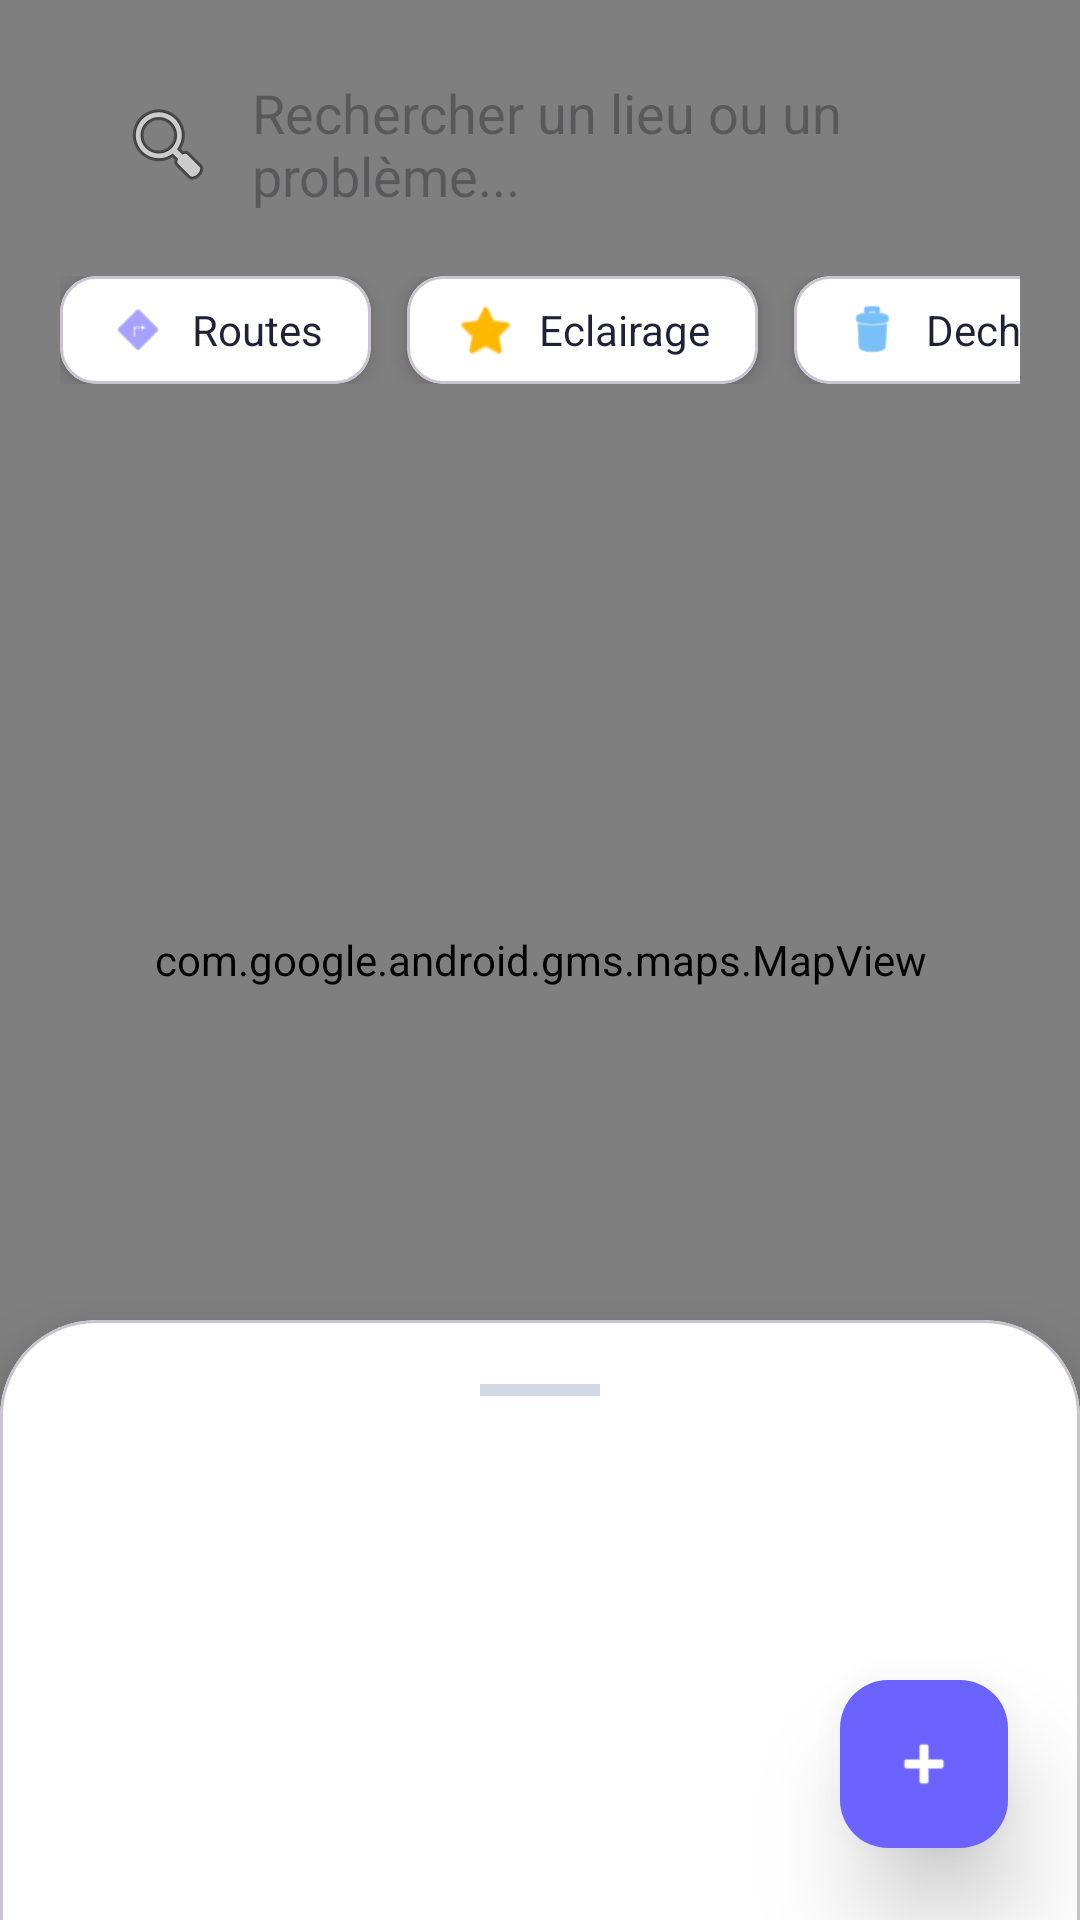

Locate icon controls on the screen. Image size 1080*1920, boxes as bbox(x1, y1, x2, y2).
add: bbox(840, 1680, 1008, 1848)
delete: bbox(855, 306, 889, 353)
directions: bbox(117, 309, 159, 350)
star: bbox(460, 306, 511, 355)
